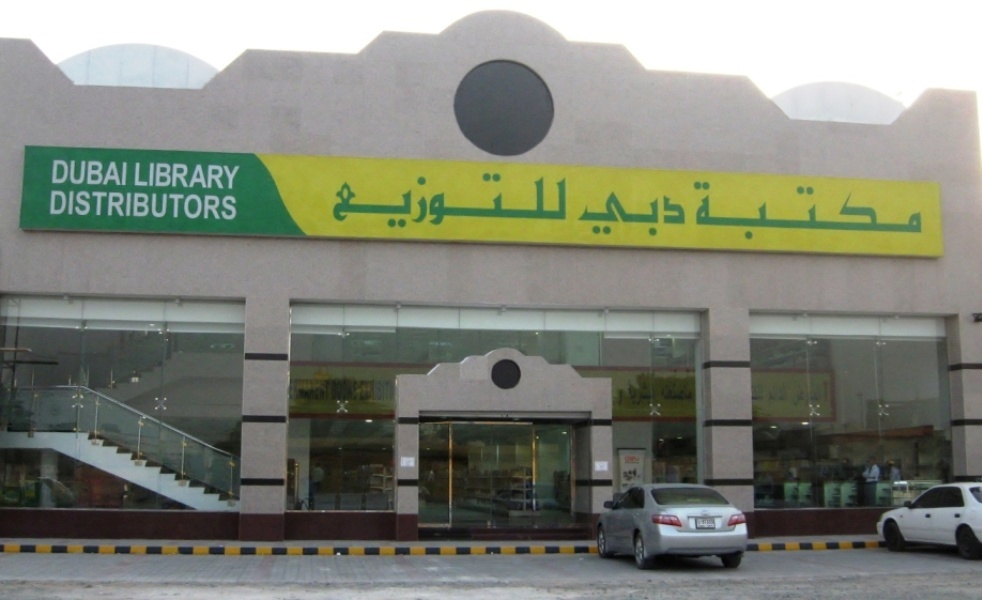text: (705, 179, 720, 244), (721, 179, 736, 244), (737, 179, 752, 244), (753, 179, 768, 244), (769, 179, 784, 244), (785, 179, 800, 244), (801, 179, 816, 244), (817, 179, 832, 244), (833, 179, 848, 244), (849, 179, 864, 244), (865, 179, 880, 244), (881, 179, 896, 244), (897, 179, 912, 244), (337, 173, 352, 233), (353, 173, 368, 233), (369, 173, 384, 233), (385, 173, 400, 233), (401, 173, 416, 233), (417, 173, 432, 233), (433, 173, 448, 233), (449, 173, 464, 233), (465, 173, 480, 233), (481, 173, 496, 233), (497, 173, 512, 233), (513, 173, 528, 233), (529, 173, 544, 233), (545, 173, 560, 233), (692, 179, 704, 244), (913, 179, 925, 244), (561, 173, 573, 233), (593, 191, 608, 237), (609, 191, 624, 237), (625, 191, 640, 237), (641, 191, 656, 237), (657, 191, 672, 237), (673, 191, 687, 237), (579, 191, 592, 237), (225, 188, 241, 220), (145, 160, 160, 193), (161, 160, 176, 193), (177, 160, 192, 193), (193, 160, 208, 193), (209, 160, 224, 193), (225, 160, 240, 193), (65, 188, 80, 220), (81, 188, 96, 220), (97, 188, 112, 220), (113, 188, 128, 220), (129, 188, 144, 220), (145, 188, 160, 220), (161, 188, 176, 220), (177, 188, 192, 220), (193, 188, 208, 220), (209, 188, 224, 220), (817, 378, 833, 408), (753, 378, 768, 408), (769, 378, 784, 408), (785, 378, 800, 408), (801, 378, 816, 408), (65, 159, 80, 188), (81, 159, 96, 188), (97, 159, 112, 188), (113, 159, 128, 188), (131, 160, 144, 193), (51, 188, 64, 220), (51, 159, 64, 188), (332, 173, 336, 233), (241, 160, 244, 193), (129, 159, 130, 188)
